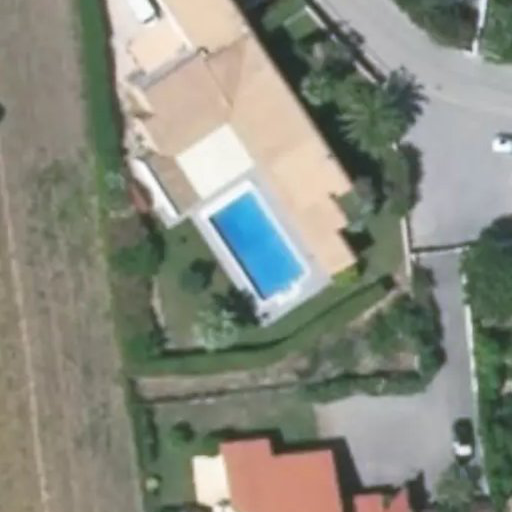pool: (206, 213, 311, 279)
